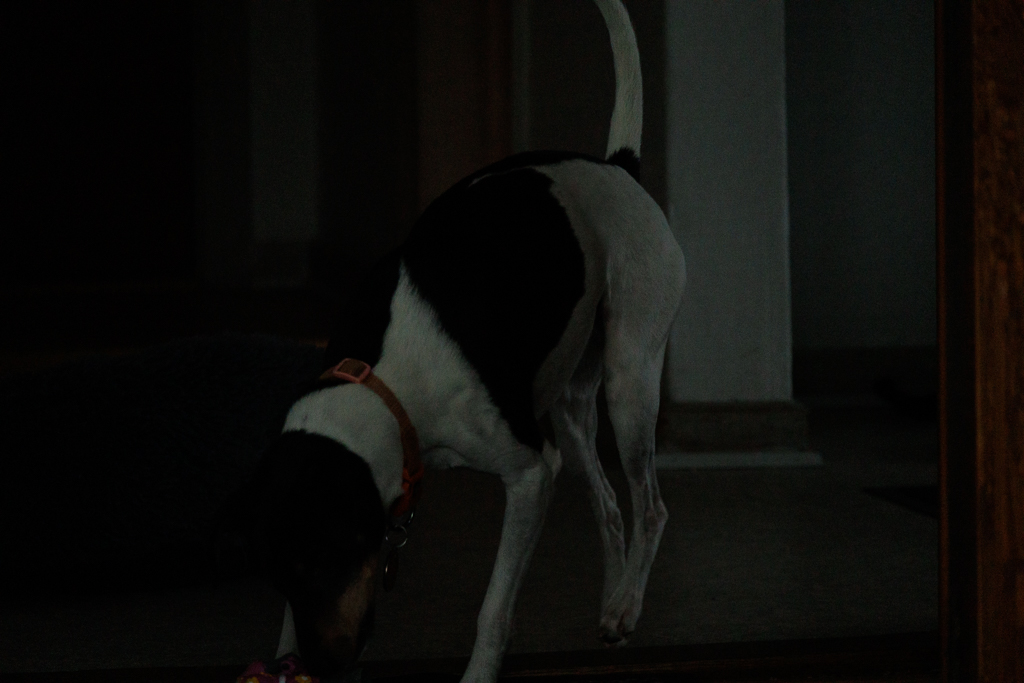Dog: (189, 0, 698, 683)
